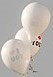Balloon: (1, 39, 30, 74), (20, 2, 51, 34)
